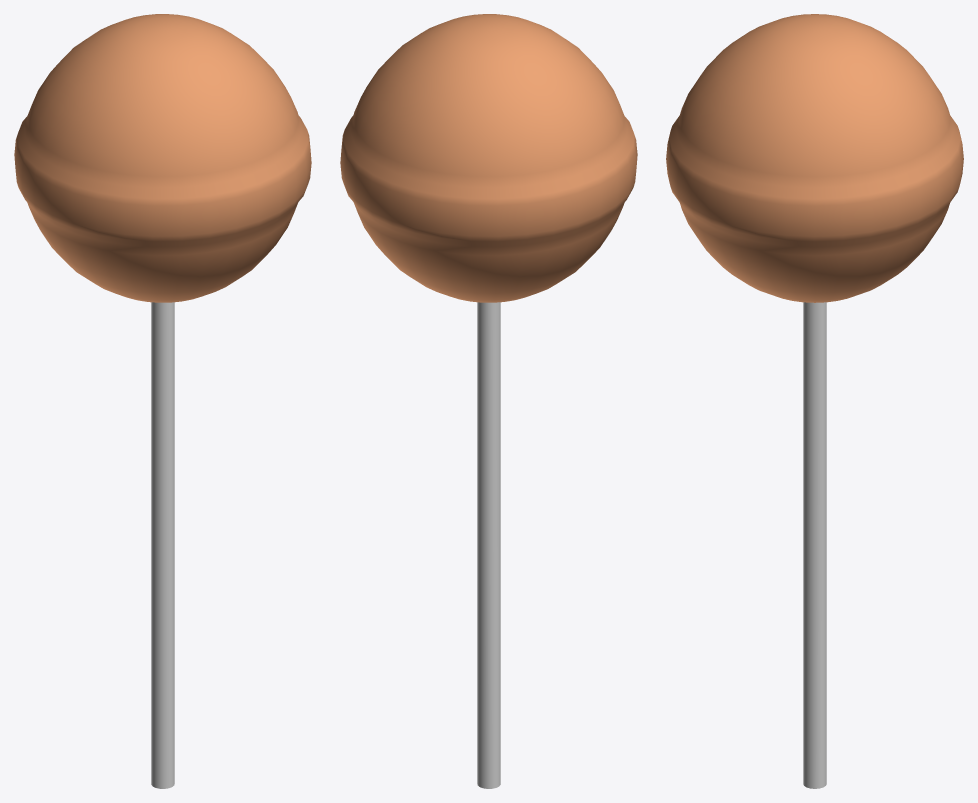
The model's file is Lolipop_01_FBX.fbx.
3 renders of one model, left to right at view 1: azimuth 30°, elevation 25°; view 2: azimuth 150°, elevation 25°; view 3: azimuth 270°, elevation 25°, orthographic.
Parts seen in each view (by area): view 1: Head, Stick; view 2: Head, Stick; view 3: Head, Stick.
Boxes of the visible parts, <box> form: Head: <box>14,14,311,302</box>; Stick: <box>151,302,174,788</box>; Head: <box>340,14,637,302</box>; Stick: <box>477,302,500,788</box>; Head: <box>666,14,963,302</box>; Stick: <box>803,302,826,788</box>.
Bounding box in the file's own units: 3.01 × 8.45 × 3.01.
